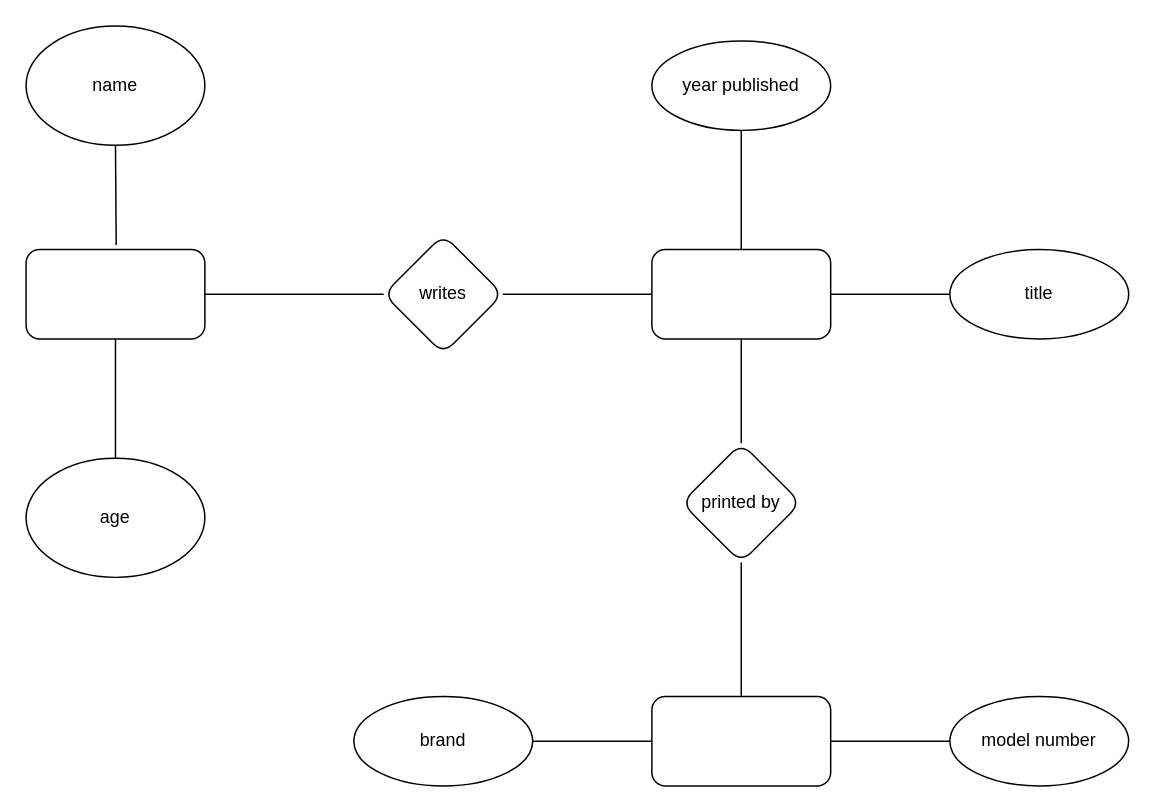
Image size: 1155x812. Some labels were removed from this diagram. The box of each missing label's shape, as (x1, y1, x2, y2) in pixels:
Author: (25, 248, 205, 339)
Book: (650, 248, 831, 339)
Printer: (650, 695, 831, 786)
